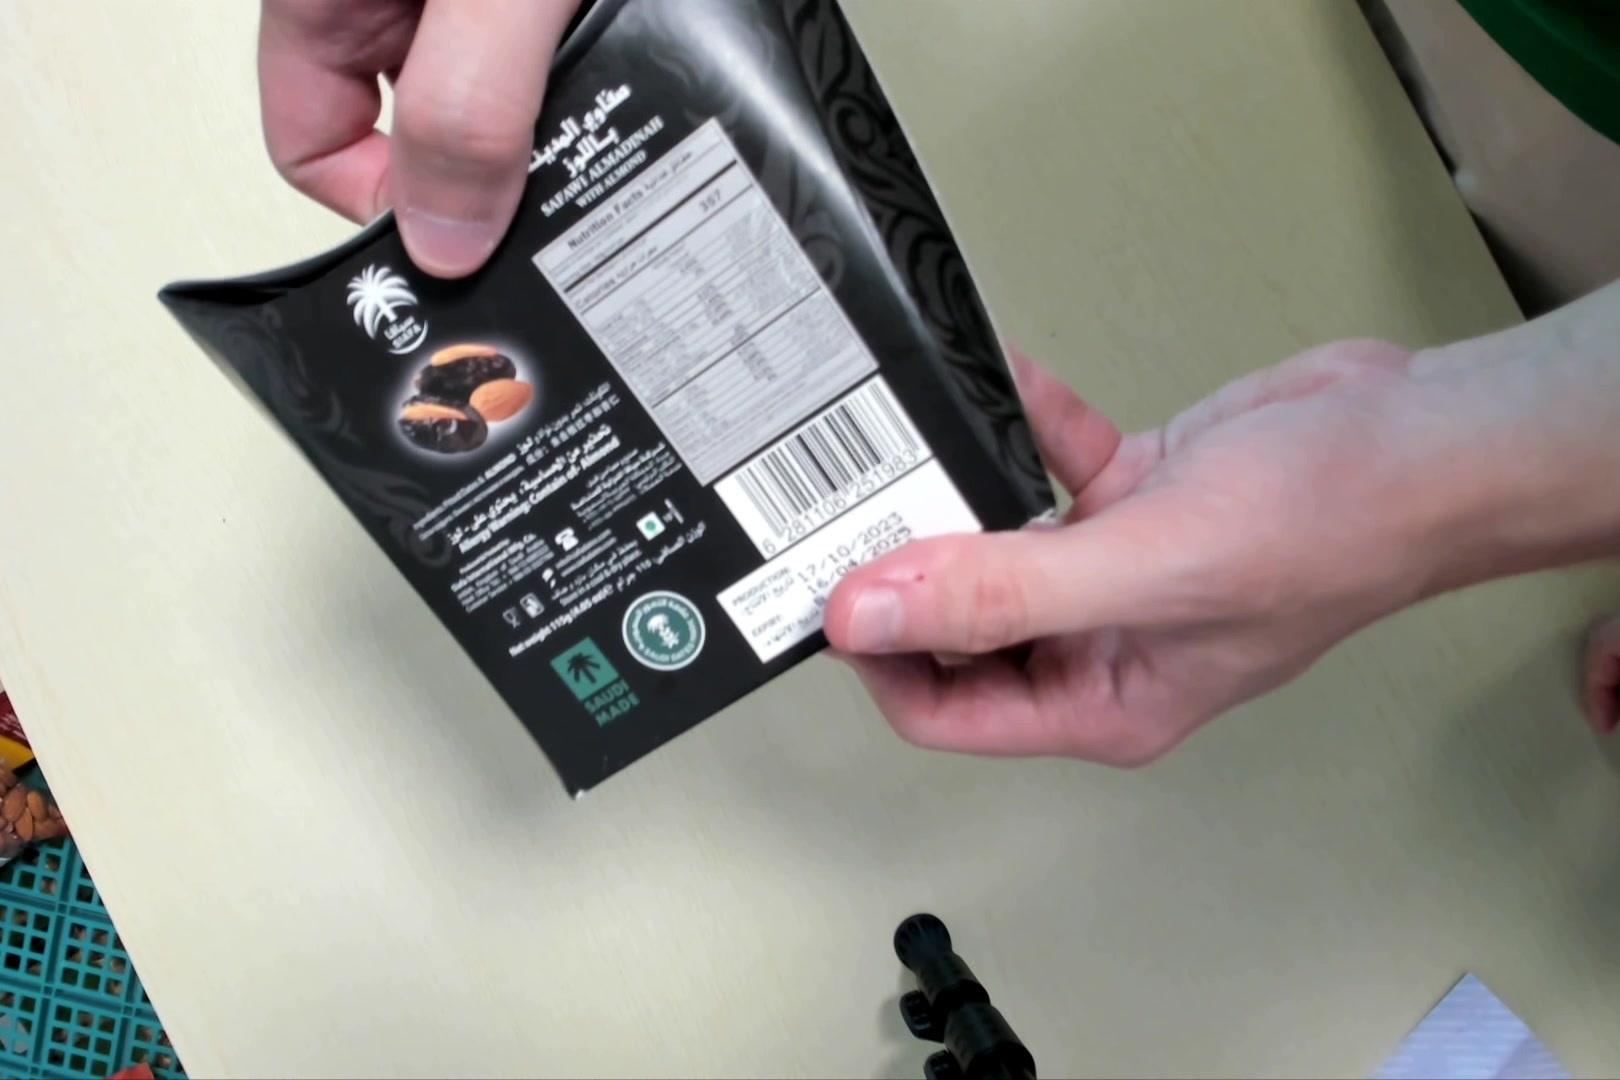DriedFood_100-199g_NonHalal_NonHealthy: (163, 1, 1076, 802)
